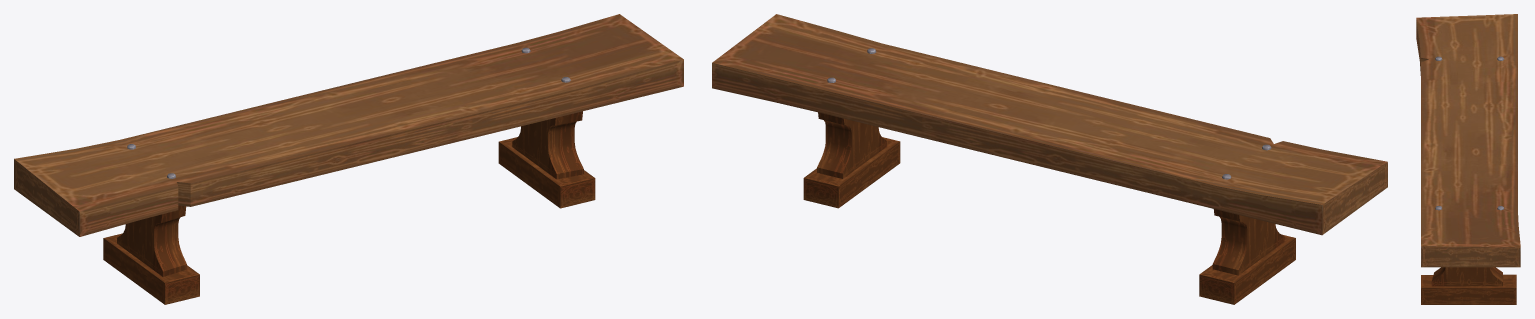
File: Bench.gltf
3 views of the same model, side by side, from view 1: azimuth 30°, elevation 25°; view 2: azimuth 150°, elevation 25°; view 3: azimuth 270°, elevation 25° (orthographic). The views are drawn at different scales.
Parts seen in each view (by area): view 1: Bench; view 2: Bench; view 3: Bench.
Part boxes in pixels (x1,y1,x2,y2): Bench: [14, 14, 683, 304]; Bench: [712, 14, 1387, 304]; Bench: [1416, 14, 1520, 304].
Bounding box in the file's own units: 2.78 × 0.5332 × 0.5343.
2 materials, 2 textured.
